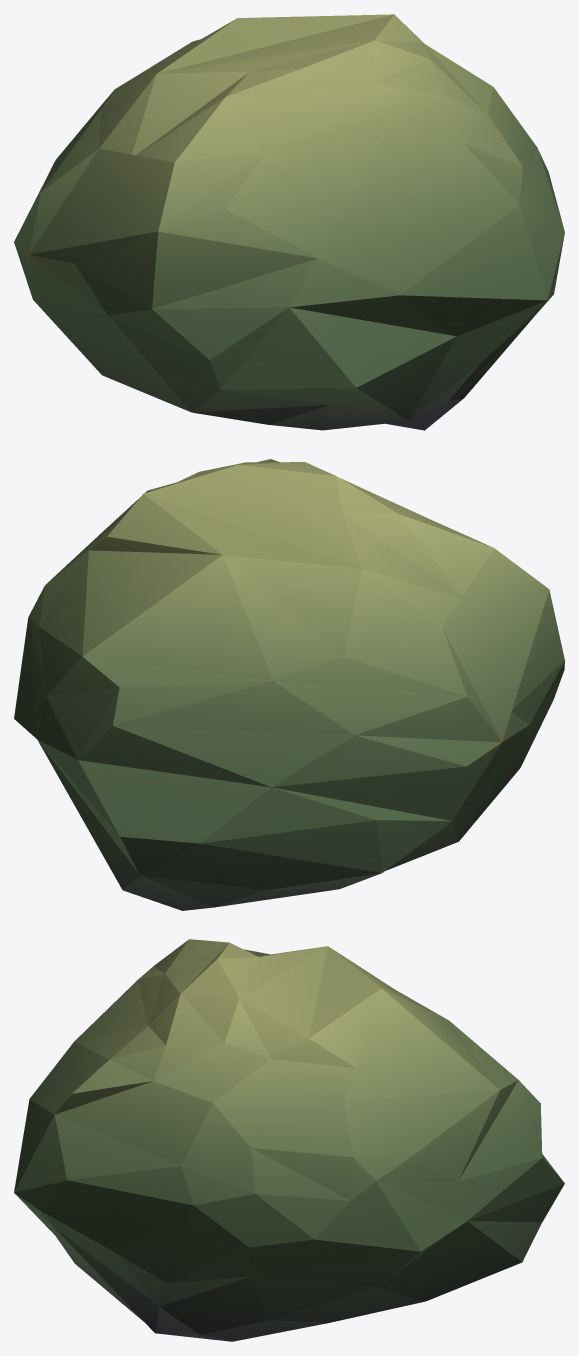
Rendered from Bush.fbx.
3 views of the same model, one above another, from view 1: azimuth 30°, elevation 25°; view 2: azimuth 150°, elevation 25°; view 3: azimuth 270°, elevation 25° (orthographic). The views are drawn at different scales.
Parts seen in each view (by area): view 1: treetop7; view 2: treetop7; view 3: treetop7.
Boxes of the visible parts, x1,y1,x2,y2 form: treetop7: [14, 14, 564, 430]; treetop7: [14, 459, 564, 910]; treetop7: [14, 939, 564, 1341].
Bounding box in the file's own units: 148 × 111 × 164.
